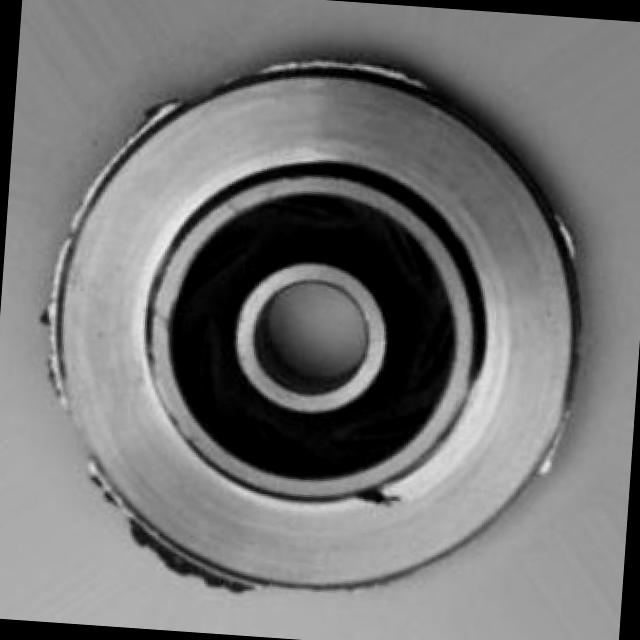Defect: (348, 474, 409, 526)
